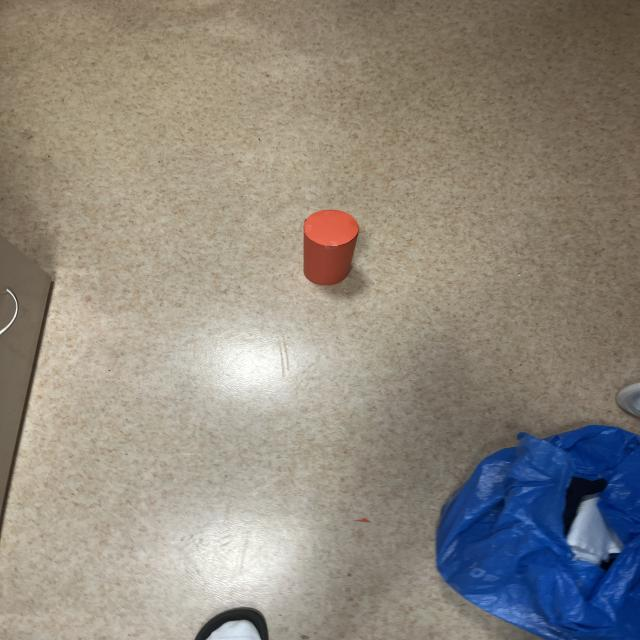przeszkoda: (303, 210, 359, 285)
